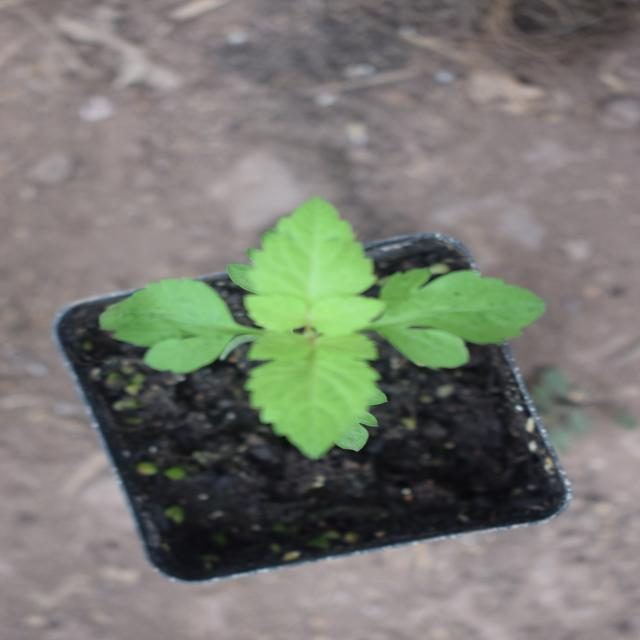Bidens pilosa: (182, 111, 427, 528)
